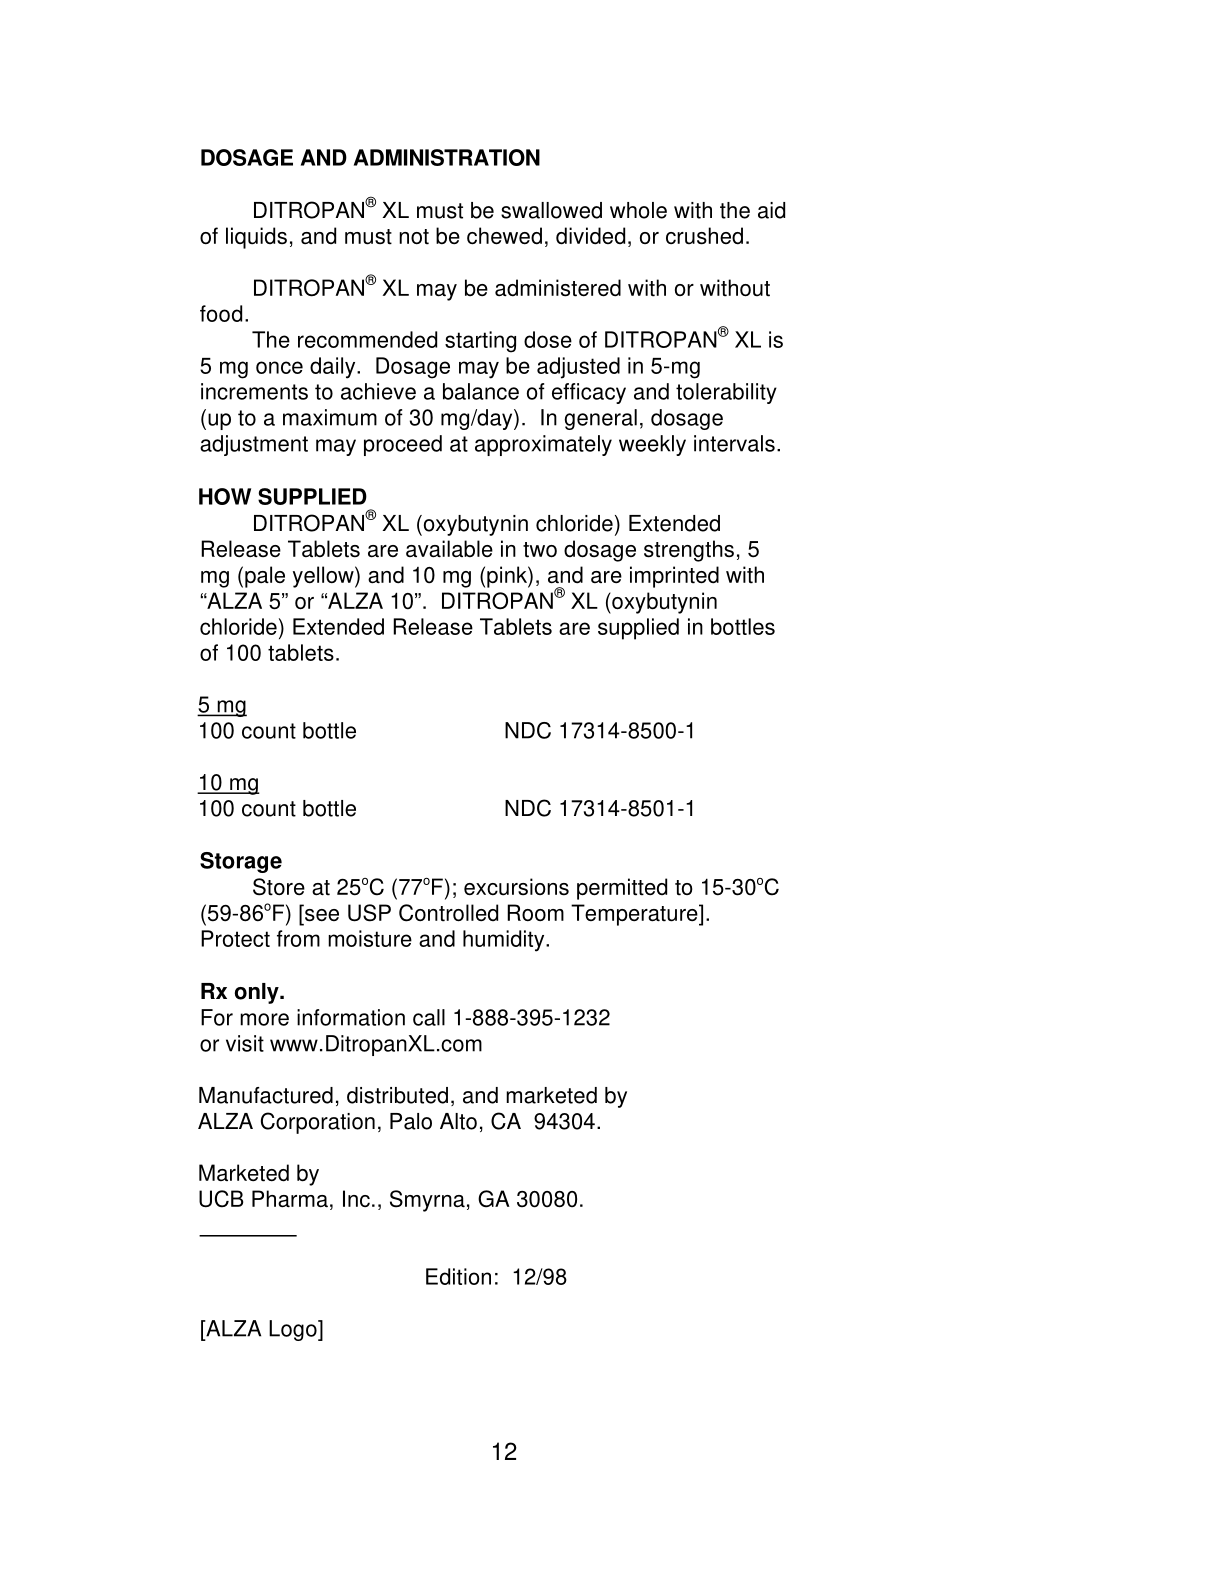nolines: (193, 690, 698, 825)
